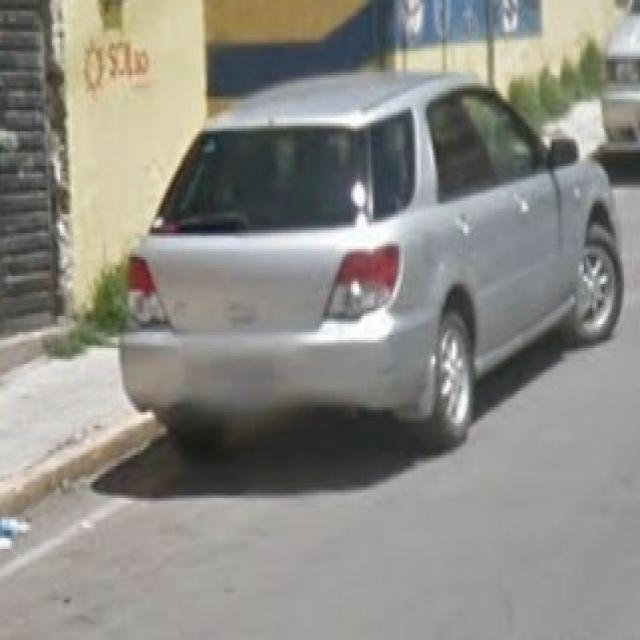Car: (119, 74, 627, 458)
